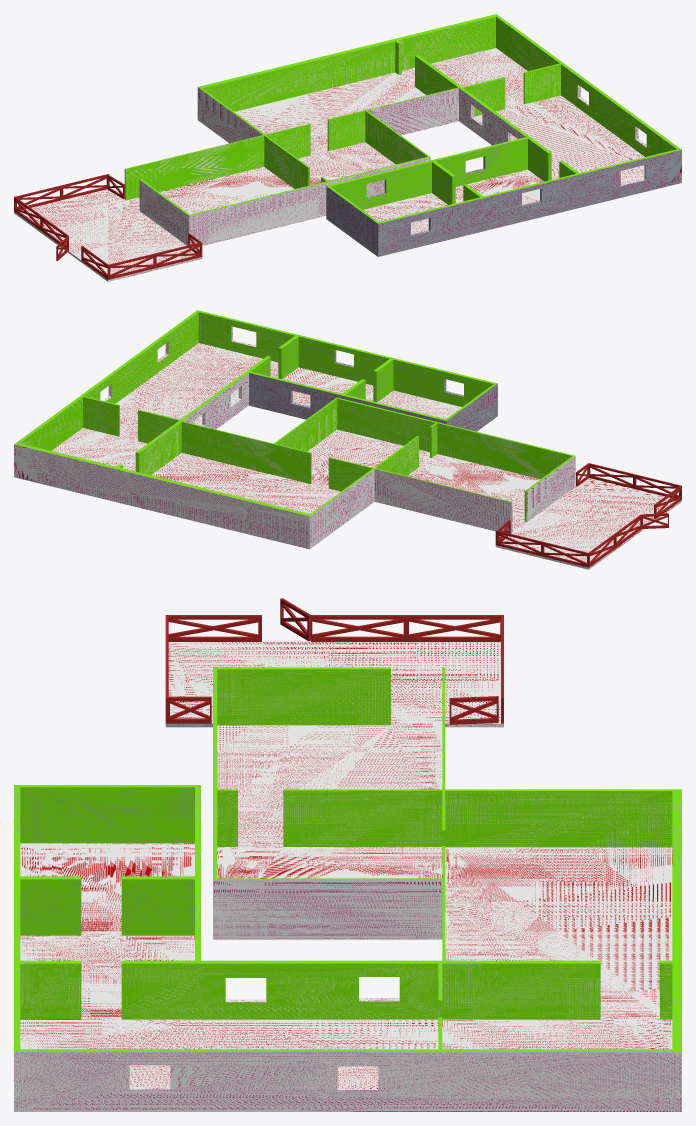
The model's file is House (2).fbx.
The picture shows the model from 3 angles, top to bottom: view 1: azimuth 30°, elevation 25°; view 2: azimuth 150°, elevation 25°; view 3: azimuth 270°, elevation 25°; orthographic projection. The views are drawn at different scales.
Visible parts, largest first — view 1: Model, fence7, fence6, fence1, fence2; view 2: Model, fence1, fence2, fence6, fence7, fence3; view 3: Model, fence4, fence5, fence3, fence_1_3, fence_1_2.
Part boxes in pixels (x1,y1,x2,y2): Model: (14, 14, 681, 281); fence7: (109, 253, 155, 279); fence6: (155, 242, 202, 267); fence1: (62, 174, 109, 199); fence2: (15, 185, 62, 209); Model: (14, 310, 681, 569); fence1: (495, 530, 541, 556); fence2: (541, 541, 587, 567); fence6: (588, 463, 633, 488); fence7: (633, 474, 680, 498); fence3: (587, 534, 615, 567); Model: (14, 640, 681, 1111); fence4: (311, 615, 407, 641); fence5: (165, 615, 261, 641); fence3: (407, 615, 503, 641); fence_1_3: (449, 696, 498, 724); fence_1_2: (168, 696, 211, 723).
Size of the model in its own units: 104 by 6.01 by 60.78.
